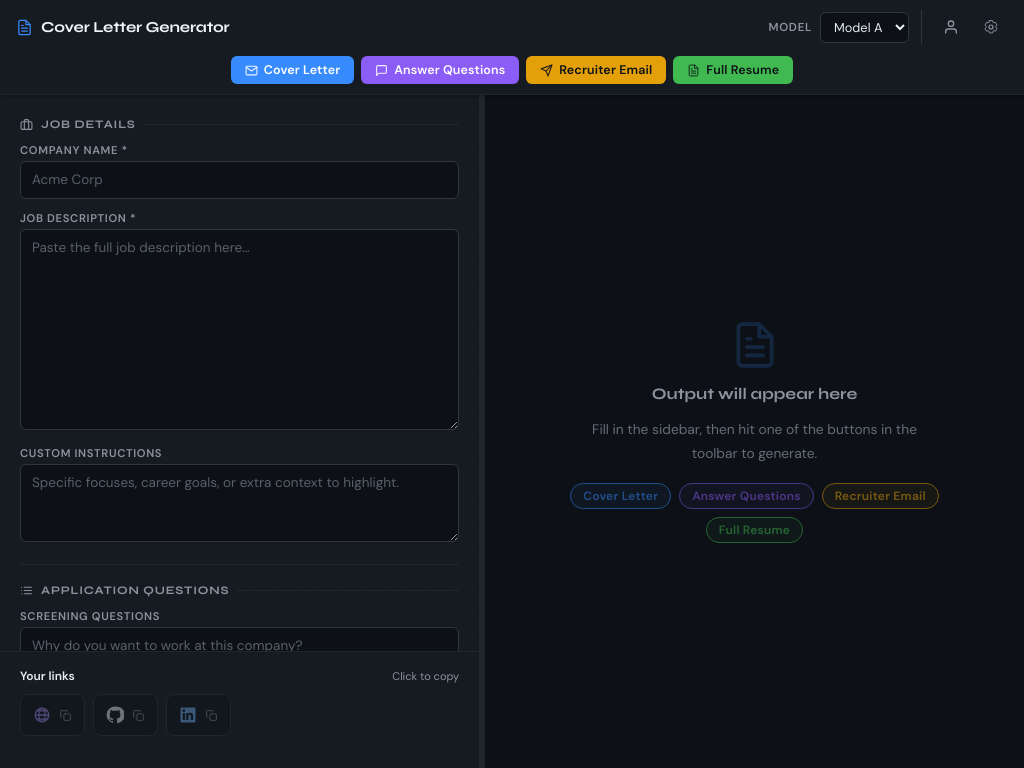
App AI workflows › stops Generate a tailored cover letter without showing an error
The width and height of the screenshot is (1024, 768).
Type "Example Corp" into the field labelled "Company Name *" at (240, 180), box [20,161,459,199]
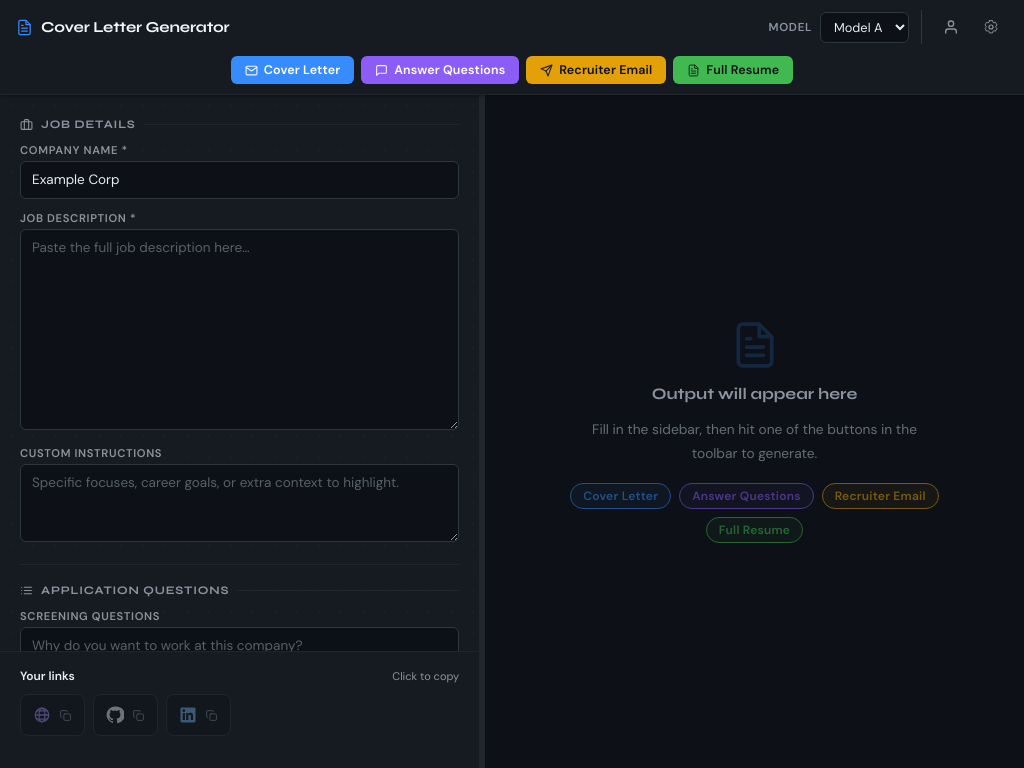
Type "Build reliable AI systems." into the text box labelled "Job Description *" at (240, 329), box [20,229,459,430]
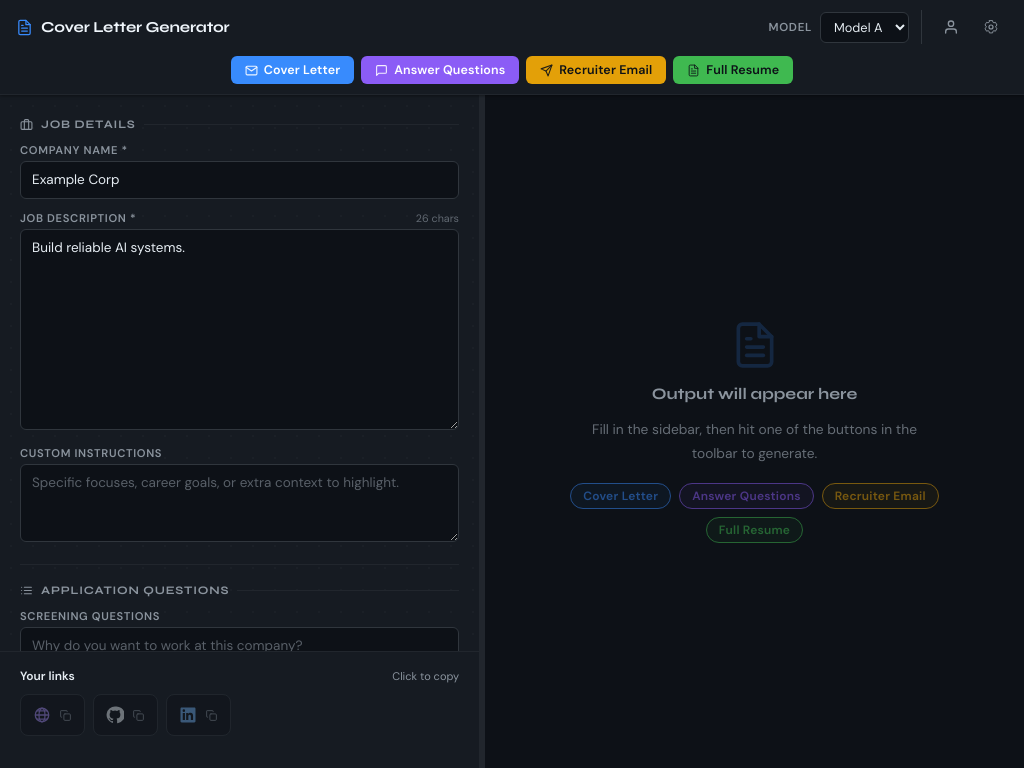
Click the button "Cover Letter" at (292, 70), box [231,56,354,84]
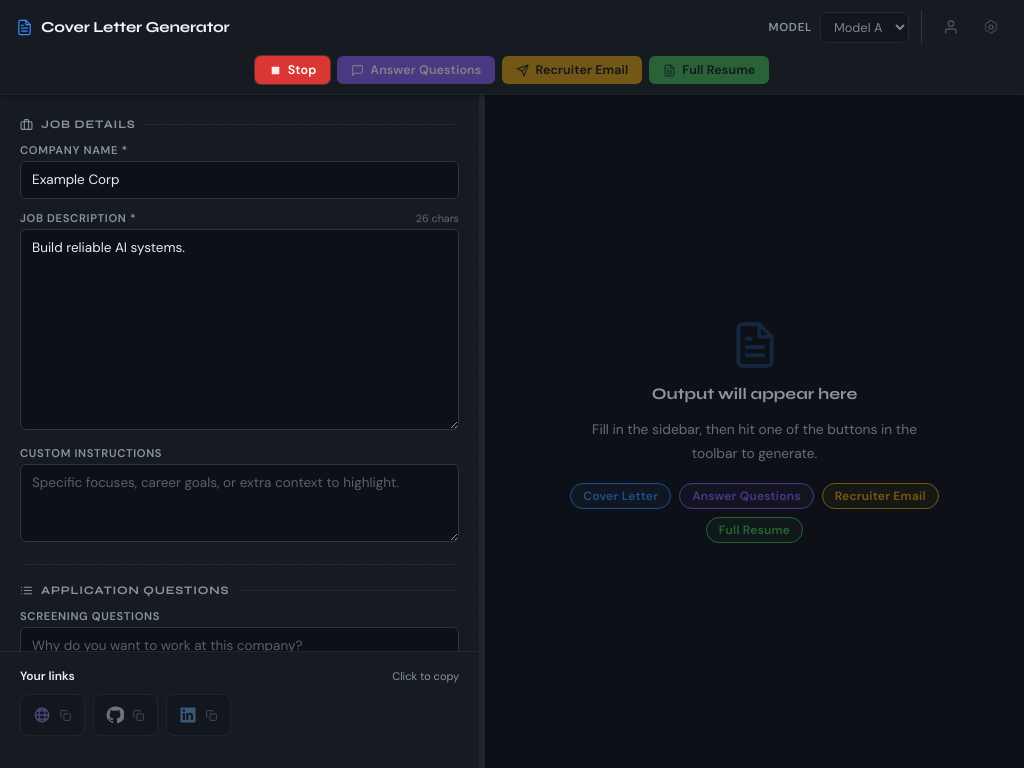
Expected: the button with class "header-btn-stop" is shown
Expected: the button with class "header-btn-stop" reads "Stop"
Expected: the dropdown with class "model-select-inline" is disabled, [820,12,909,42]
Click the button with class "header-btn-stop" at (292, 70), box [255,56,330,84]
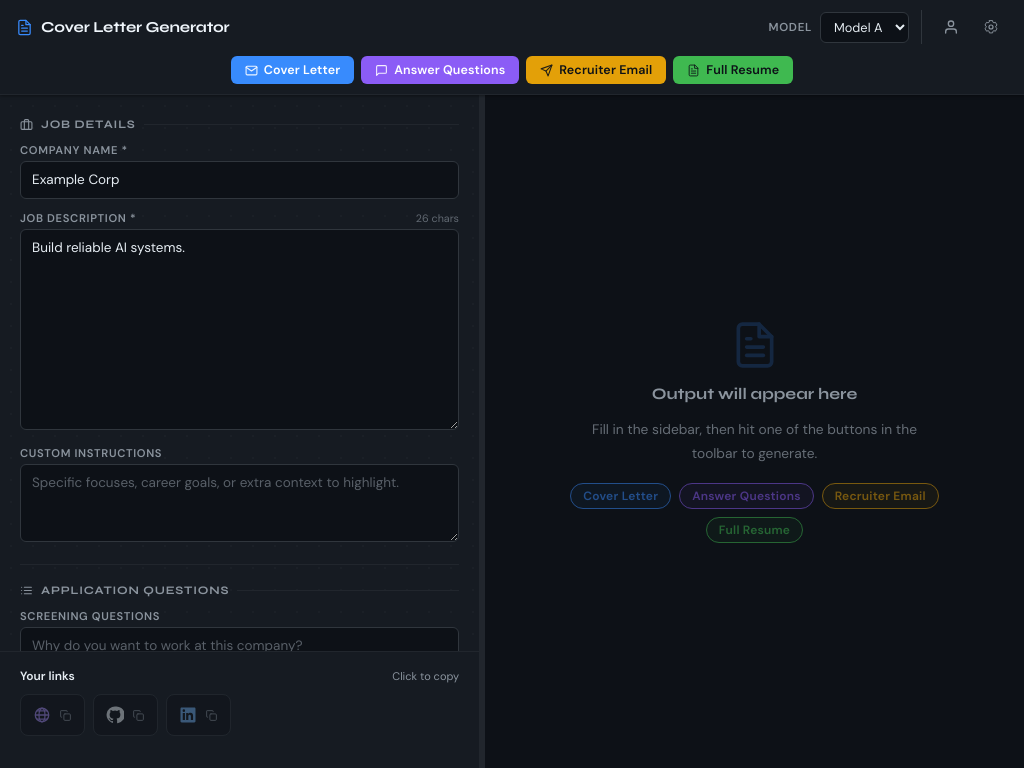
Expected: the dropdown with class "model-select-inline" is enabled, [820,12,909,42]
